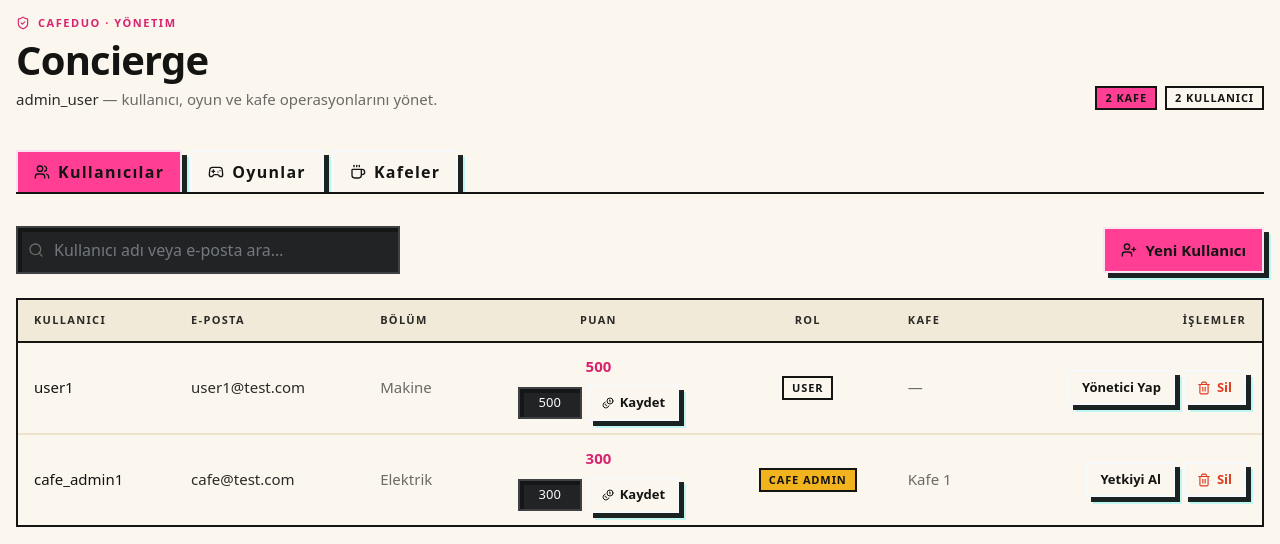
Test: AdminDashboard › filters users by search term
Check: the text "user1" is shown, box [18,342,175,434]
Type "cafe" into the field with placeholder "Kullanıcı adı veya e-posta ara…".
click(208, 250); type("cafe")  # box [16,226,400,274]
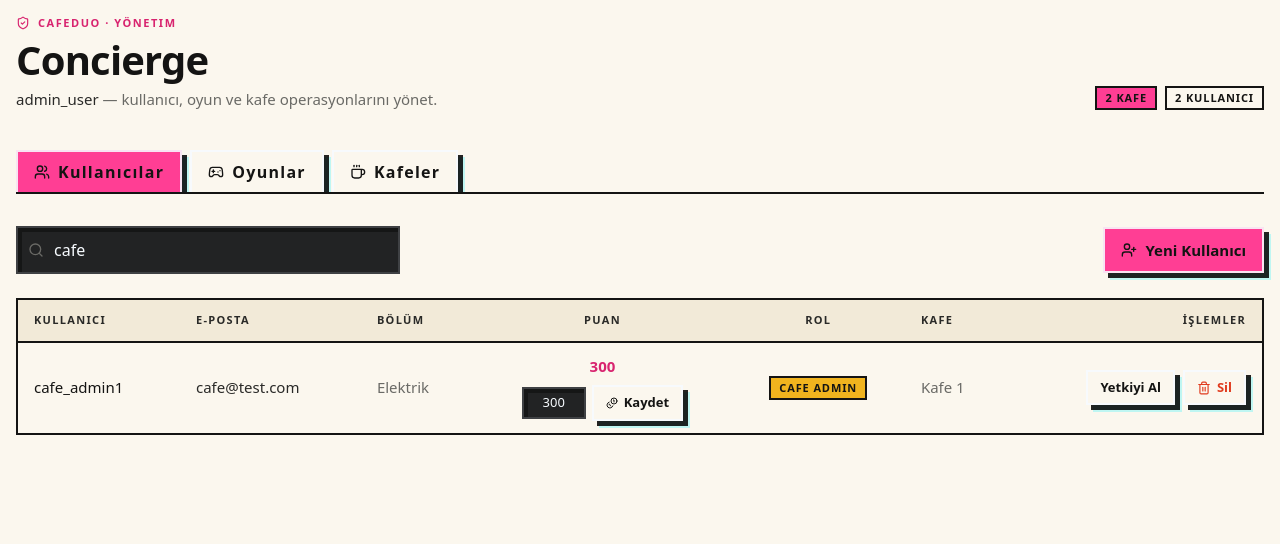
Check: the text "cafe_admin1" is shown, box [18,342,180,432]
Check: the text "user1" is gone
